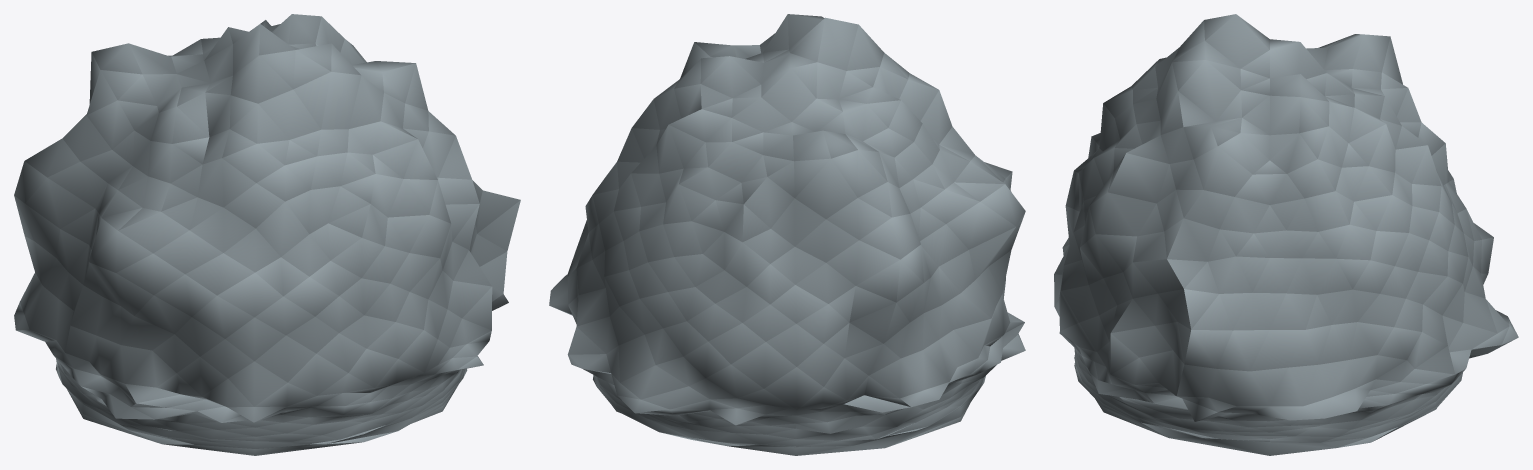
File: rock_outcrop_b.glb
3 renders of one model, left to right at view 1: azimuth 30°, elevation 25°; view 2: azimuth 150°, elevation 25°; view 3: azimuth 270°, elevation 25°, orthographic. The views are drawn at different scales.
Visible parts, largest first — view 1: rock_outcrop_b; view 2: rock_outcrop_b; view 3: rock_outcrop_b.
Part boxes in pixels (left/top/right/bottom): rock_outcrop_b: left=14, top=14, right=520, bottom=455; rock_outcrop_b: left=549, top=14, right=1025, bottom=455; rock_outcrop_b: left=1054, top=14, right=1518, bottom=455.
Bounding box in the file's own units: 2.53 × 2.08 × 2.5.
1 material, 1 textured.
